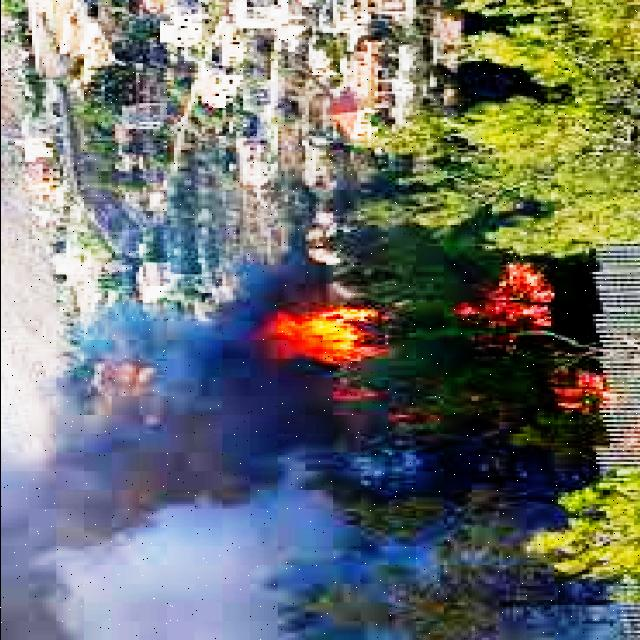api: (466, 258, 565, 330), (276, 302, 384, 358), (555, 371, 607, 409)
asap: (5, 434, 369, 640), (45, 282, 272, 429)
